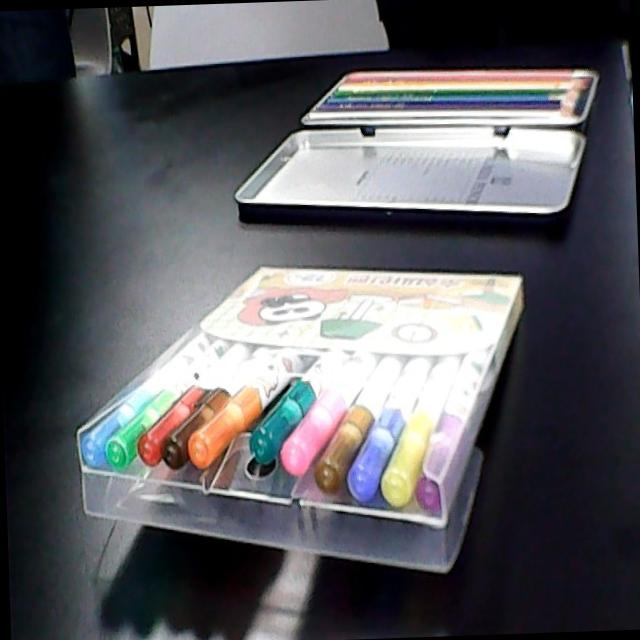color: (277, 65, 606, 136)
signpen: (70, 244, 540, 586)
